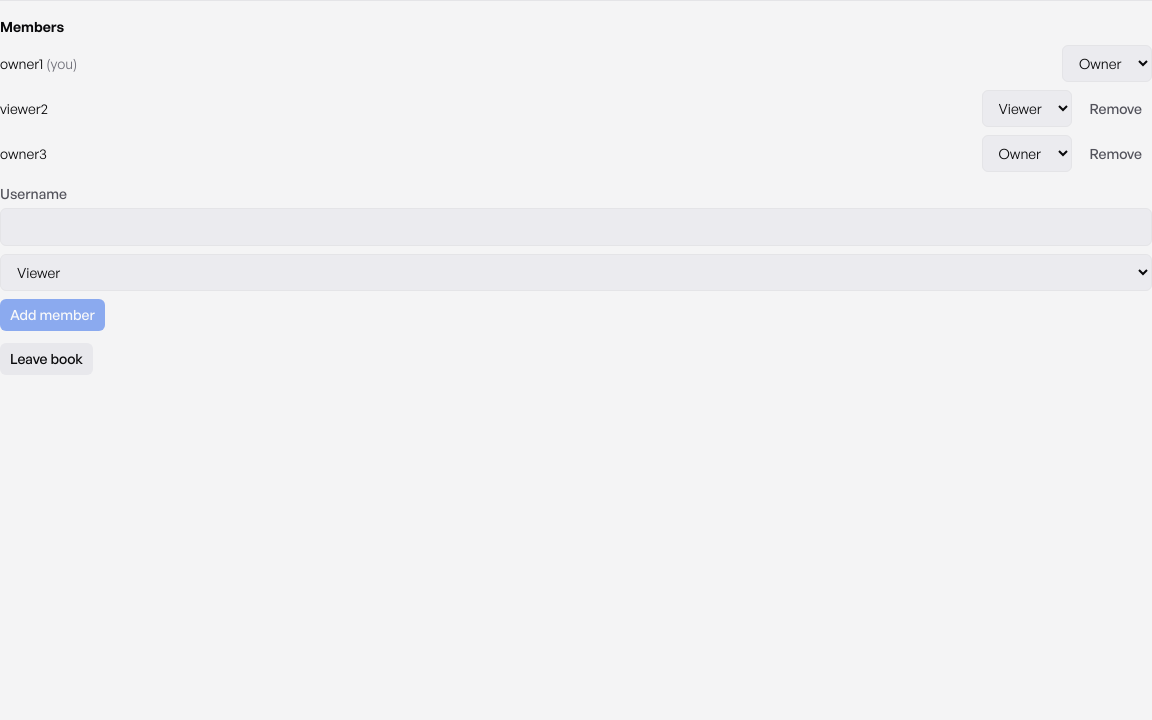
BookMembersSettings › role change › asks first before it makes a member an owner
The image size is (1152, 720).
Select "Owner" in the dropdown named "Role for viewer2": (1027, 108) left=982, top=90, right=1072, bottom=127
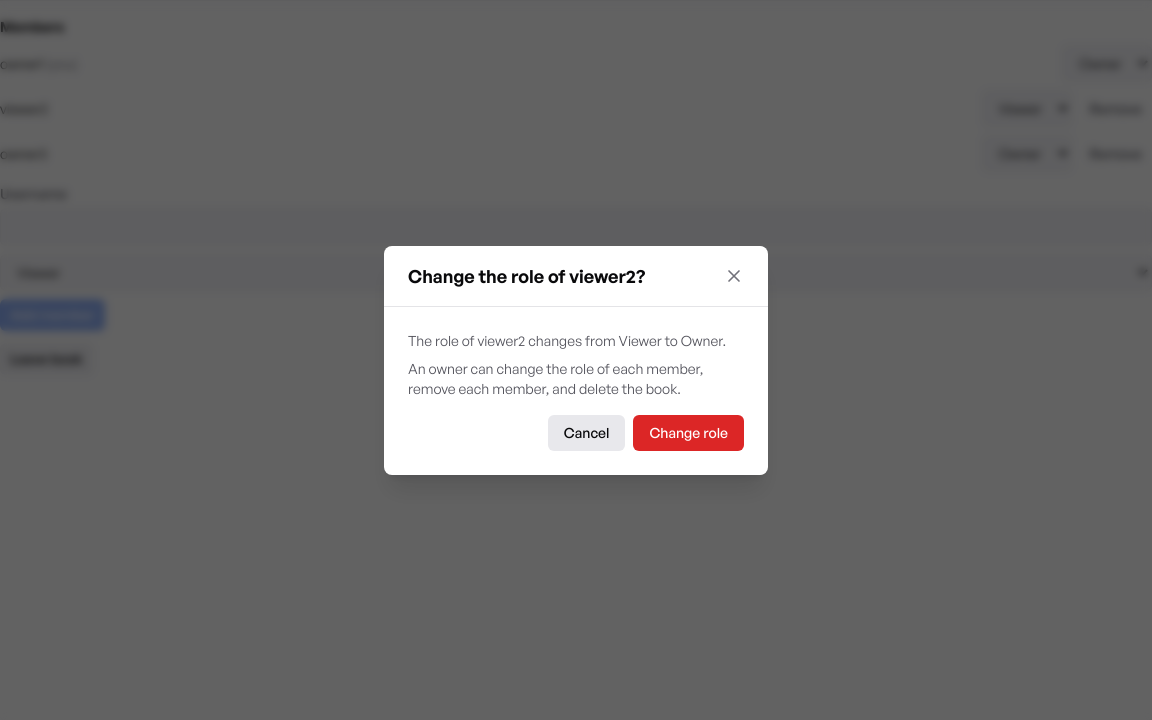
Result: the heading "Change the role of viewer2?" is shown at left=408, top=262, right=645, bottom=290
